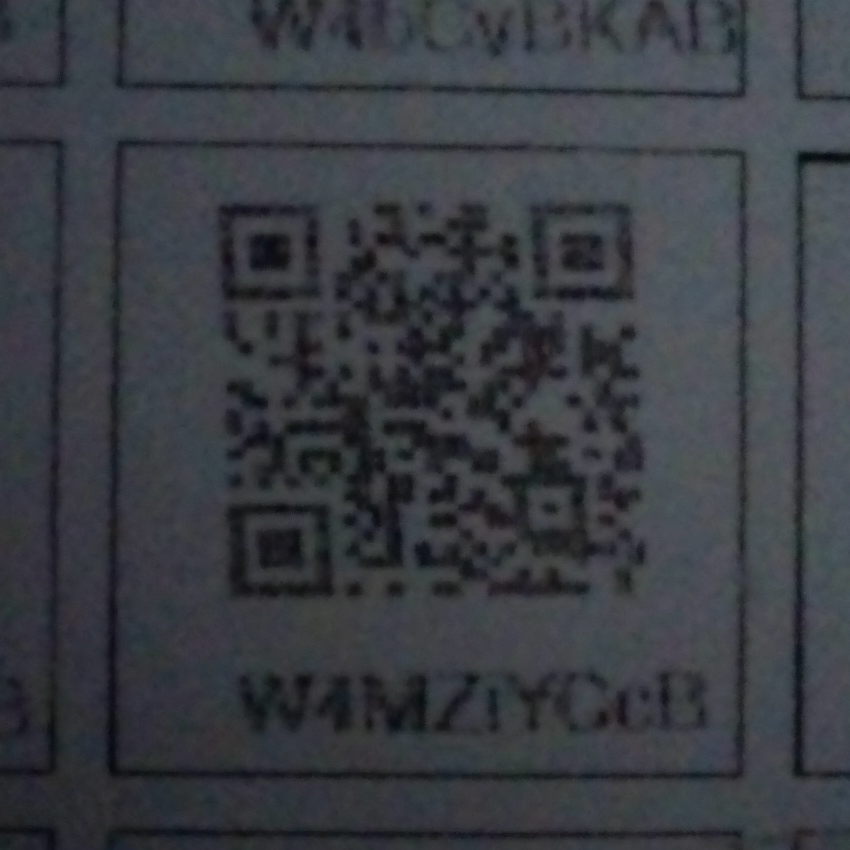QR-CODE: (204, 175, 678, 620)
